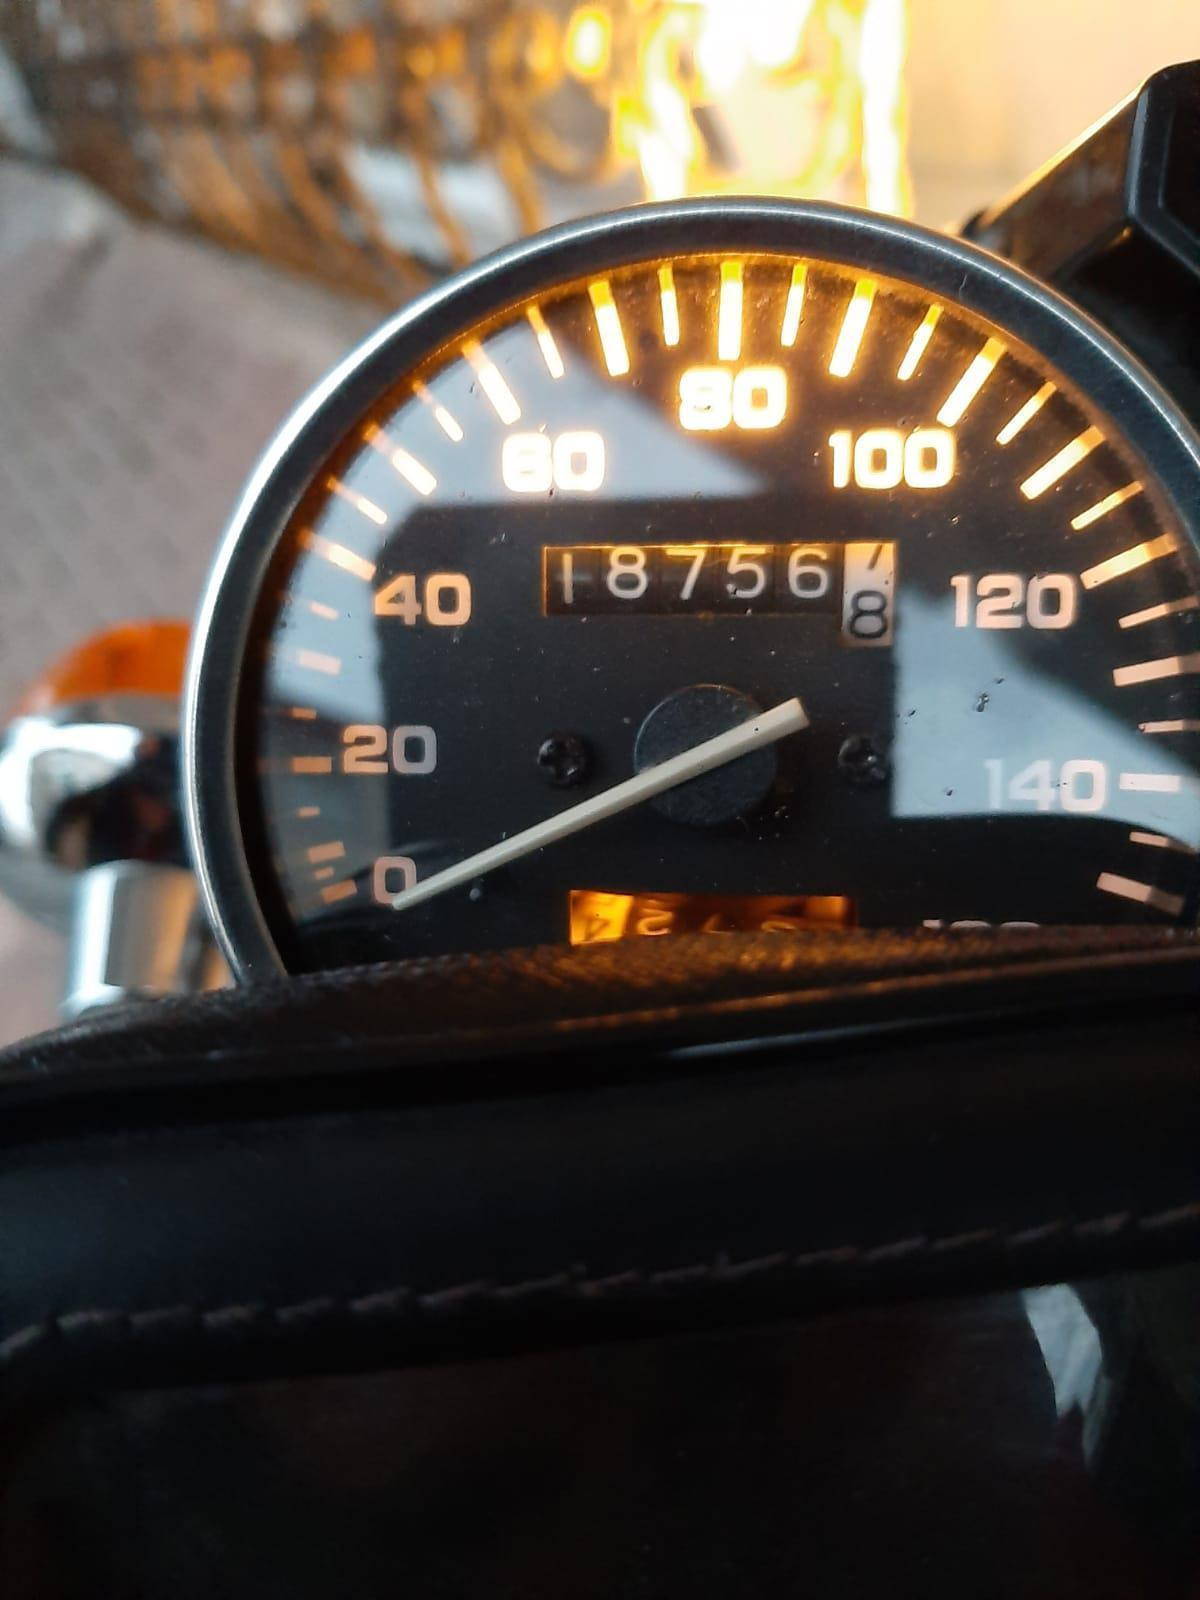1: (556, 551, 581, 606)
5: (724, 546, 771, 602)
6: (784, 546, 832, 601)
7: (663, 546, 706, 605)
8: (843, 578, 892, 645), (603, 542, 650, 602)
odometer: (521, 522, 914, 668)
